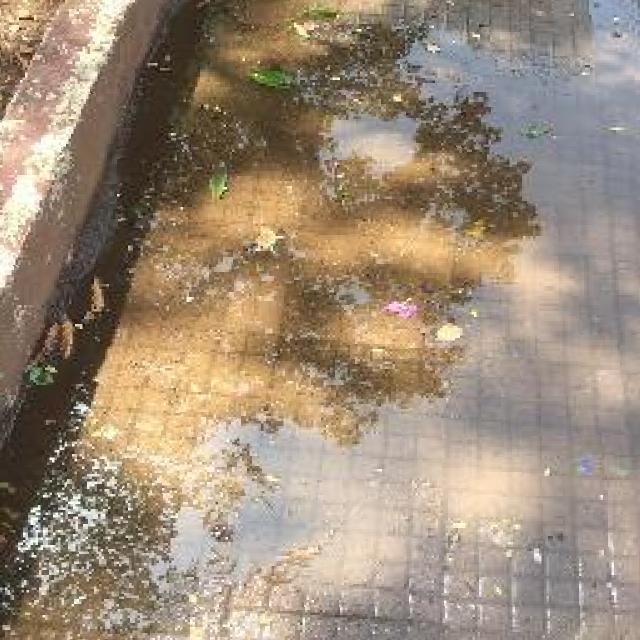puddle: (5, 1, 640, 640)
